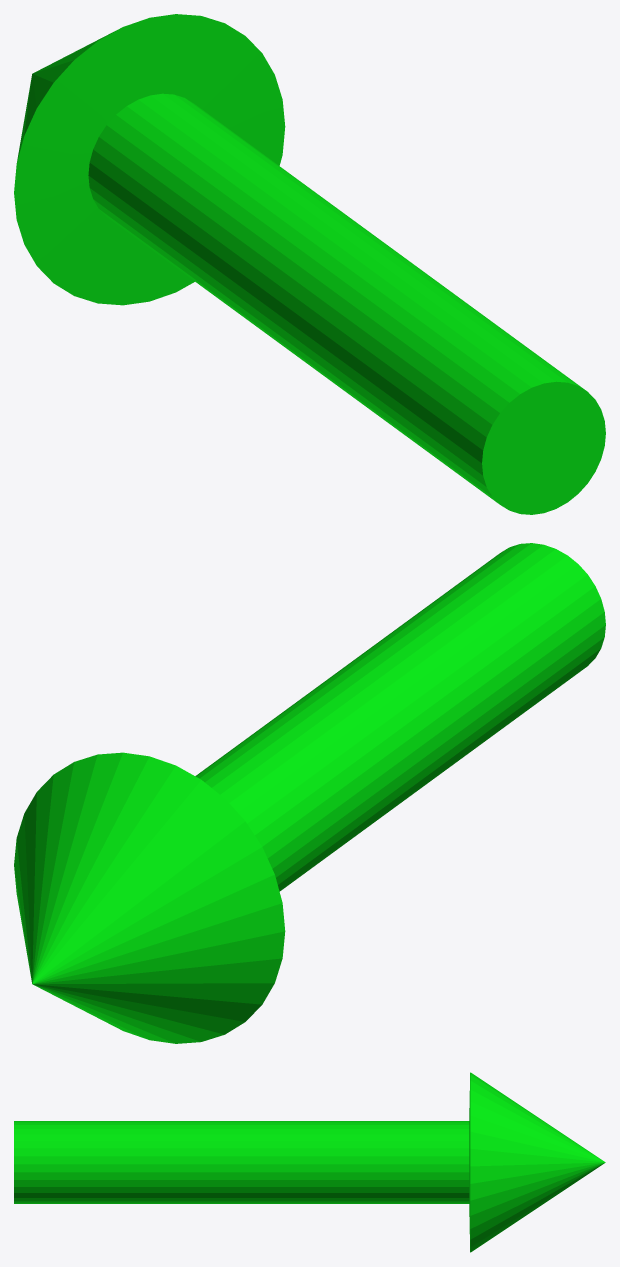
File: arrowY.glb
3 renders of one model, top to bottom at view 1: azimuth 30°, elevation 25°; view 2: azimuth 150°, elevation 25°; view 3: azimuth 270°, elevation 25°, orthographic. The views are drawn at different scales.
Visible parts, largest first — view 1: Cylinder.001; view 2: Cylinder.001; view 3: Cylinder.001.
Boxes of the visible parts, <box> form: Cylinder.001: <box>14,14,605,514</box>; Cylinder.001: <box>14,543,605,1043</box>; Cylinder.001: <box>14,1072,605,1252</box>.
Size of the model in its own units: 4.38 by 4.38 by 14.3.
